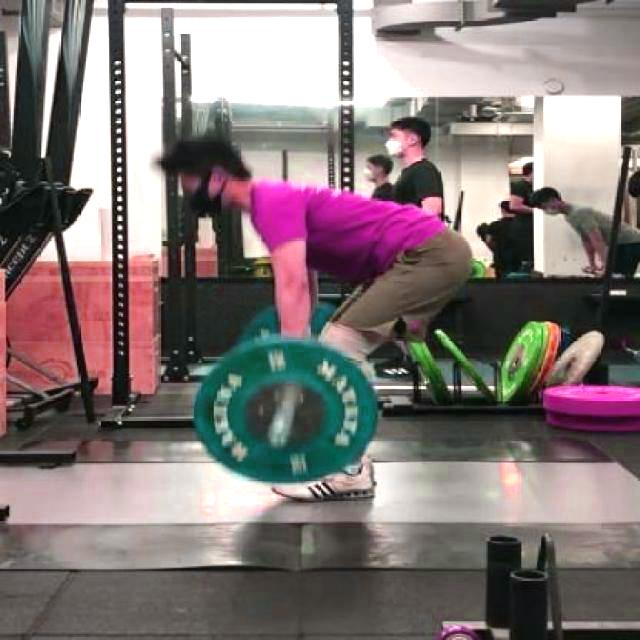barbell: (186, 334, 387, 490)
